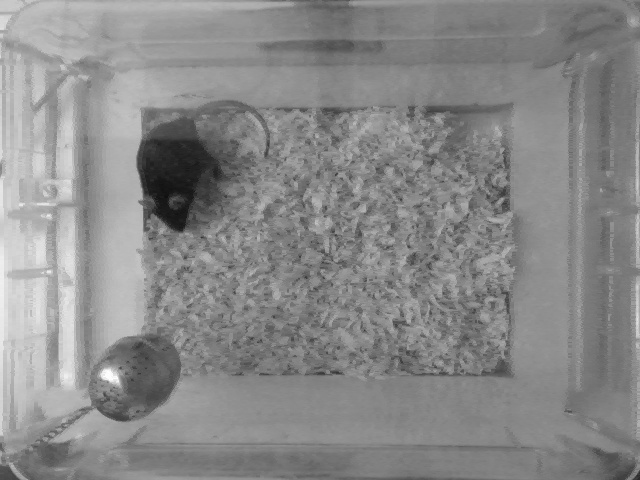mice: (136, 95, 275, 234)
